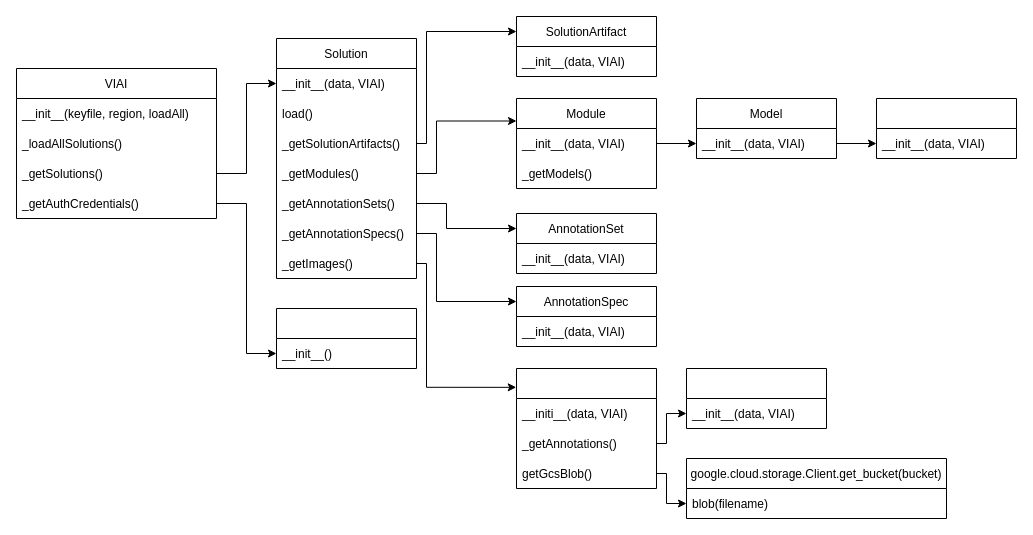
The diagram is 1033 pixels wide and 535 high, and some of its shapes have lost their labels. Here are the shapes that lost their labels. From the top down, the box of each, then its label:
(876, 98, 1016, 158): ModelEvaluation
(276, 308, 416, 368): AuthCredentialException
(686, 368, 826, 428): Annotation
(516, 368, 656, 488): Image
